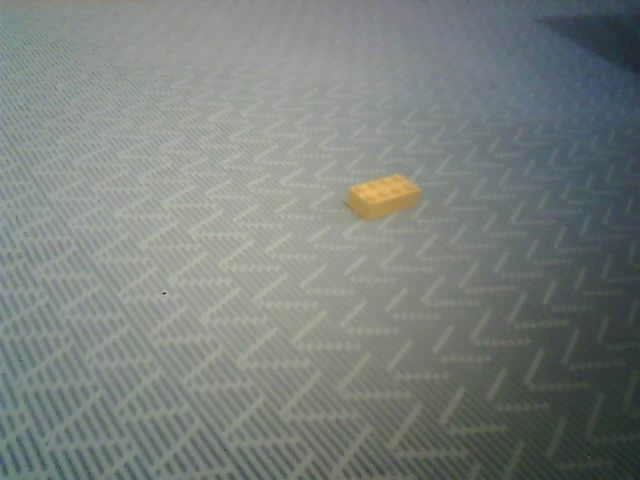lego: (345, 173, 421, 221)
